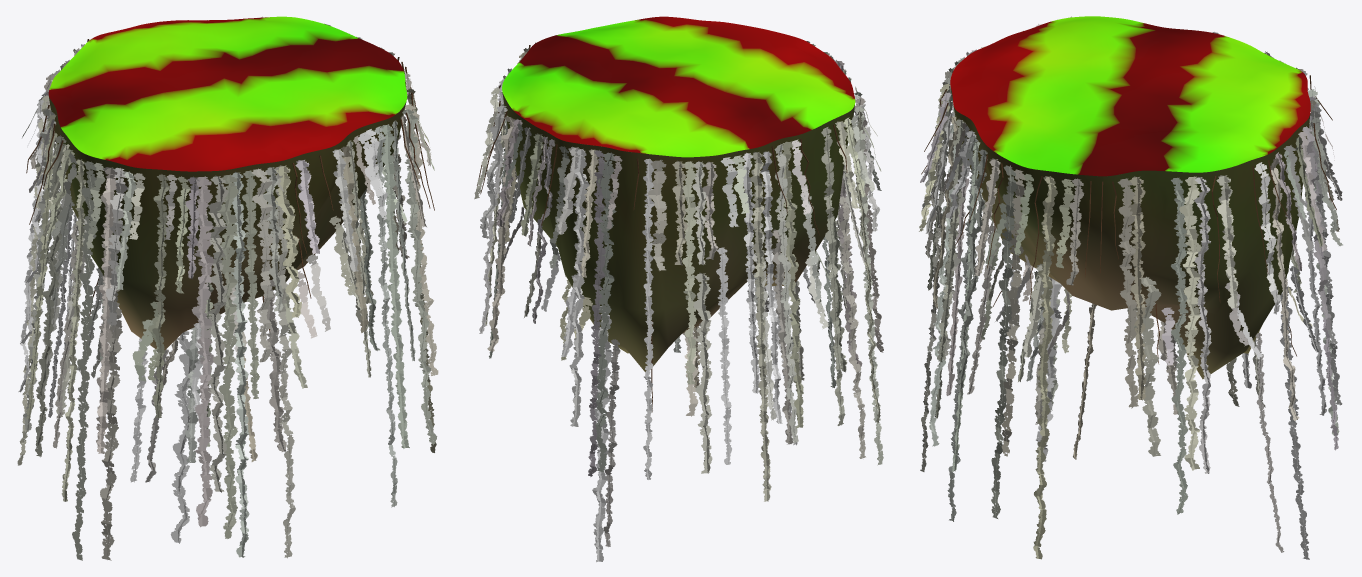
The model's file is SM_H03_Floater07.fbx.
The picture shows the model from 3 angles, left to right: view 1: azimuth 30°, elevation 25°; view 2: azimuth 150°, elevation 25°; view 3: azimuth 270°, elevation 25°; orthographic projection. The views are drawn at different scales.
Visible parts, largest first — view 1: SM_H03_Floater07_Ivy, SM_H03_Floater07; view 2: SM_H03_Floater07, SM_H03_Floater07_Ivy; view 3: SM_H03_Floater07, SM_H03_Floater07_Ivy.
Part boxes in pixels (left/top/right/bottom): SM_H03_Floater07_Ivy: left=17, top=16, right=438, bottom=560; SM_H03_Floater07: left=48, top=16, right=407, bottom=350; SM_H03_Floater07: left=502, top=16, right=855, bottom=371; SM_H03_Floater07_Ivy: left=474, top=22, right=883, bottom=562; SM_H03_Floater07: left=950, top=16, right=1310, bottom=379; SM_H03_Floater07_Ivy: left=919, top=16, right=1342, bottom=559.
Bounding box in the file's own units: 30.7 × 35.71 × 29.32.
